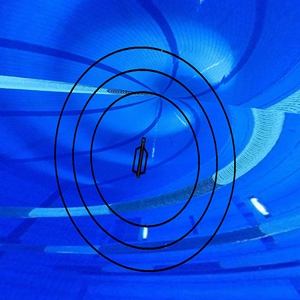circle: (52, 45, 242, 275)
submarine: (125, 134, 152, 184)
